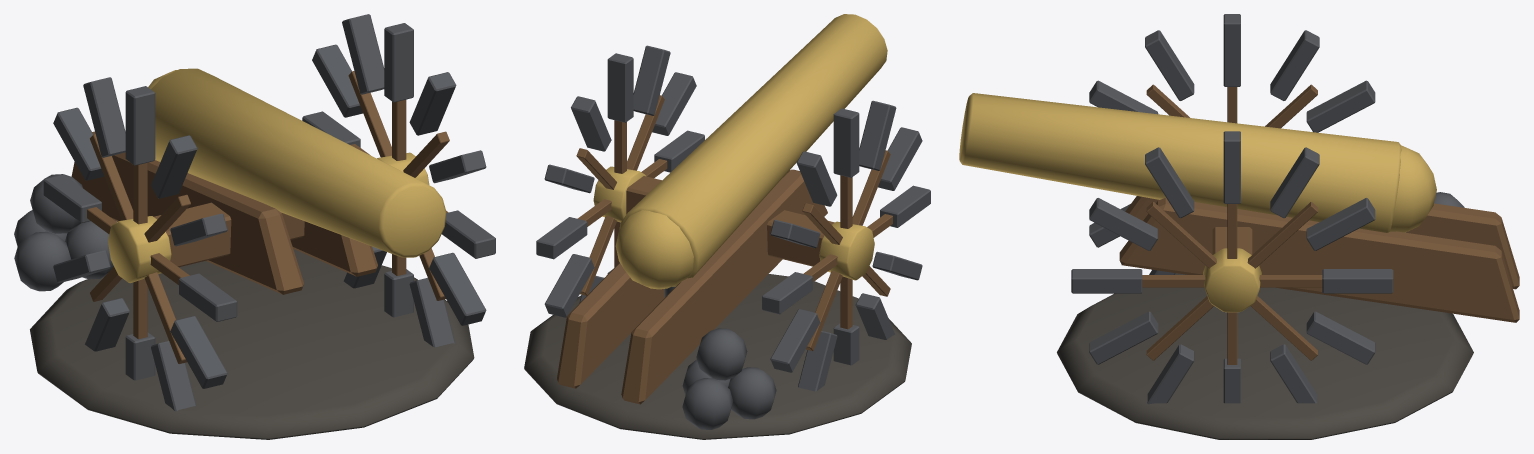
The model's file is Mountain_Unicorn_Cannon.glb.
The picture shows the model from 3 angles, left to right: view 1: azimuth 30°, elevation 25°; view 2: azimuth 150°, elevation 25°; view 3: azimuth 270°, elevation 25°; orthographic projection. The views are drawn at different scales.
Visible parts, largest first — view 1: ArtilleryPlinth, BronzeBarrel, CheekL, WheelL_Hub, CheekR, AxleBeam, Cannonball_2, WheelL_Rim3, WheelR_Rim2, WheelL_Rim2, WheelR_Rim3, WheelL_Rim7 (+31 smaller); view 2: ArtilleryPlinth, BronzeBarrel, CheekL, CheekR, BreechCascabel, AxleBeam, WheelL_Hub, Cannonball_4, Cannonball_3, Cannonball_2, WheelR_Rim3, WheelL_Rim3 (+32 smaller); view 3: ArtilleryPlinth, BronzeBarrel, CheekR, CheekL, WheelR_Hub, BreechCascabel, WheelR_Rim6, WheelR_Rim0, WheelR_Rim11, WheelR_Rim7, WheelL_Rim1, WheelR_Rim1 (+22 smaller).
Boxes of the visible parts, x1,y1,x2,y2 form: ArtilleryPlinth: (30, 249, 474, 439); BronzeBarrel: (151, 68, 446, 257); CheekL: (71, 131, 304, 294); WheelL_Hub: (108, 216, 171, 283); CheekR: (290, 221, 377, 276); AxleBeam: (154, 202, 304, 267); Cannonball_2: (14, 231, 70, 291); WheelL_Rim3: (125, 86, 155, 165); WheelR_Rim2: (342, 14, 384, 94); WheelL_Rim2: (83, 77, 125, 157); WheelR_Rim3: (384, 23, 413, 102); WheelL_Rim7: (170, 316, 227, 388); ArtilleryPlinth: (524, 274, 911, 439); BronzeBarrel: (619, 14, 887, 286); CheekL: (621, 169, 827, 404); CheekR: (557, 262, 664, 388); BreechCascabel: (615, 210, 693, 289); AxleBeam: (626, 176, 834, 266); WheelL_Hub: (819, 221, 874, 280); Cannonball_4: (696, 328, 747, 380); Cannonball_3: (682, 378, 733, 429); Cannonball_2: (728, 367, 776, 419); WheelR_Rim3: (607, 53, 633, 122); WheelL_Rim3: (833, 108, 859, 177); ArtilleryPlinth: (1057, 273, 1473, 439); BronzeBarrel: (959, 93, 1401, 232); CheekR: (1119, 197, 1519, 322); CheekL: (1125, 196, 1519, 289); WheelR_Hub: (1203, 248, 1261, 312); BreechCascabel: (1390, 145, 1436, 232); WheelR_Rim6: (1071, 269, 1142, 293); WheelR_Rim0: (1322, 269, 1393, 293); WheelR_Rim11: (1306, 311, 1375, 364); WheelR_Rim7: (1089, 311, 1158, 364); WheelL_Rim1: (1306, 80, 1375, 132); WheelR_Rim1: (1306, 198, 1375, 250).
Size of the model in its own units: 1.23 by 0.9749 by 1.7.
